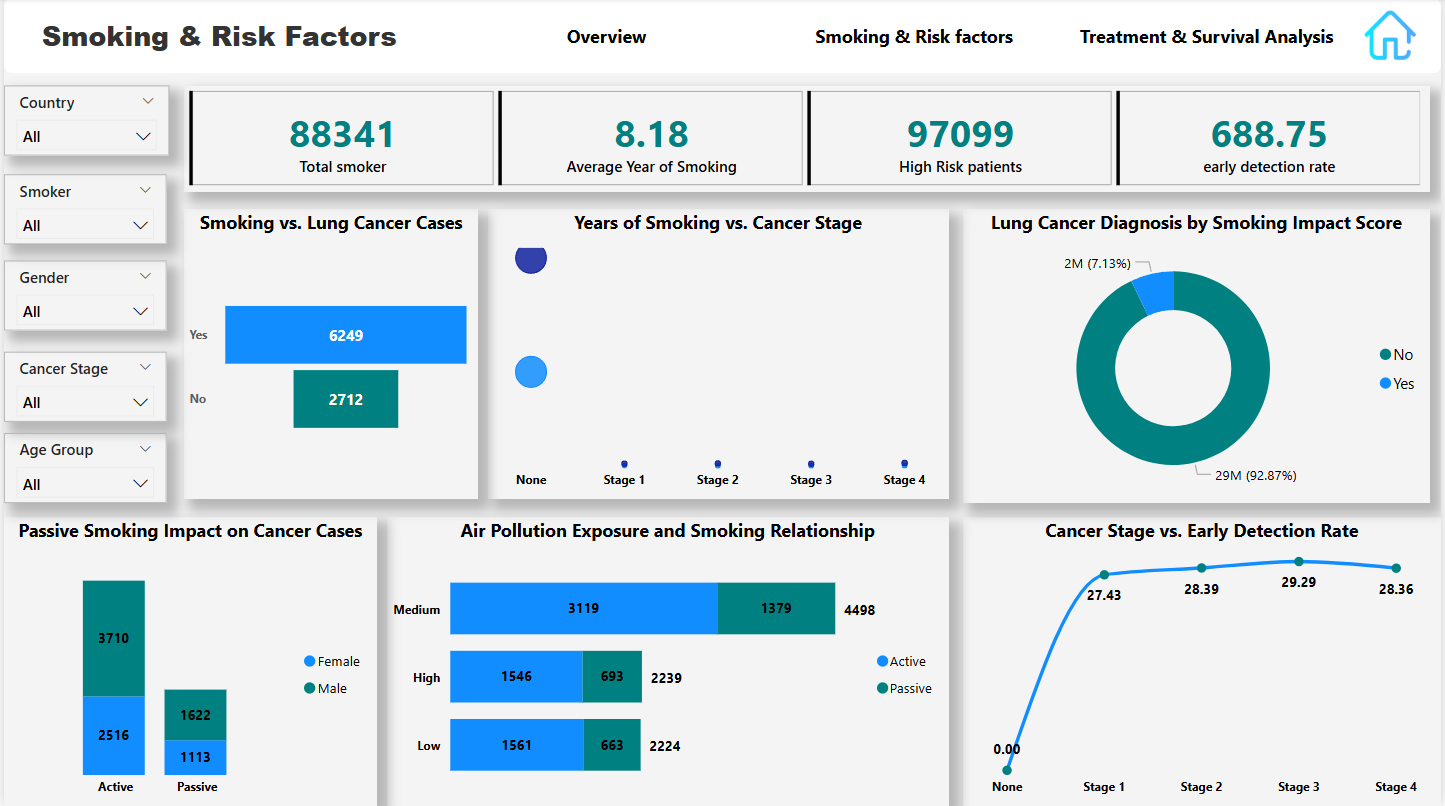

This screenshot's page, from the dashboard's own definition file:
{"tool":"powerbi","page":{"name":"Smoking & Risk factors","canvas":[1280,720],"ordinal":2},"visuals":[{"type":"cardVisual","fields":{"Data":["_Measures.Total smoker","_Measures.Average Year of Smoking","_Measures.High Risk patients","_Measures.early detection rate"]},"box":[160.5,78.4,1109.9,94.1],"z":0},{"type":"shape","box":[0,0,1280,67.6],"z":1000},{"type":"textbox","box":[8.4,10.9,365.6,44.6],"z":2000},{"type":"slicer","fields":{"Values":["lung_cancer_Dataset.Country"]},"box":[0,78.4,147.2,62.7],"z":3000},{"type":"slicer","fields":{"Values":["lung_cancer_Dataset.Smoker"]},"box":[0,156.8,144.8,62.7],"z":4000},{"type":"slicer","fields":{"Values":["lung_cancer_Dataset.Gender"]},"box":[0,234,144.8,62.7],"z":5000},{"type":"slicer","fields":{"Values":["lung_cancer_Dataset.Cancer_Stage"]},"box":[0,314.9,144.8,62.7],"z":6000},{"type":"slicer","fields":{"Values":["lung_cancer_Dataset.Age Group"]},"box":[0,387.3,144.8,62.7],"z":7000},{"type":"actionButton","box":[412.6,10.9,247.3,44.6],"z":8000},{"type":"actionButton","box":[686.5,10.9,247.3,44.6],"z":9000},{"type":"actionButton","box":[947.1,10.9,247.3,44.6],"z":10000},{"type":"funnel","title":"Smoking vs. Lung Cancer Cases","fields":{"Category":["lung_cancer_Dataset.Smoker"],"Y":["_Measures.Total Lung Cancer cases"]},"box":[160.5,188.2,261.8,258.2],"z":11000},{"type":"columnChart","title":"Passive Smoking Impact on Cancer Cases","fields":{"Y":["_Measures.Total Lung Cancer cases"],"Category":["lung_cancer_Dataset.Passive-Smoker"],"Series":["lung_cancer_Dataset.Gender"]},"box":[0,462.1,331.8,258.2],"z":12000},{"type":"scatterChart","title":"Years of Smoking vs. Cancer Stage ","fields":{"X":["lung_cancer_Dataset.Cancer_Stage"],"Y":["Sum(lung_cancer_Dataset.Years_of_Smoking)"],"Size":["_Measures.Total patients"],"Series":["lung_cancer_Dataset.Gender"]},"box":[430.7,188.2,410.2,258.2],"z":13000},{"type":"donutChart","title":"Lung Cancer Diagnosis by Smoking Impact Score","fields":{"Category":["lung_cancer_Dataset.Lung_Cancer_Diagnosis"],"Y":["Sum(lung_cancer_Dataset.Smoking Impact Score)"]},"box":[854.2,188.2,416.2,261.8],"z":14000},{"type":"barChart","title":"Air Pollution Exposure and Smoking Relationship","fields":{"Category":["lung_cancer_Dataset.Air_Pollution_Exposure"],"Series":["lung_cancer_Dataset.Passive-Smoker"],"Y":["_Measures.Total Lung Cancer cases"]},"box":[340.2,462.1,500.7,258.2],"z":15000},{"type":"lineChart","title":"Cancer Stage vs. Early Detection  Rate","fields":{"Y":["_Measures.early detection rate"],"Category":["lung_cancer_Dataset.Cancer_Stage"]},"box":[854.2,462.1,425.9,258.2],"z":16000},{"type":"image","box":[1199.2,6,71.2,55.5],"z":17000}]}

Visuals, with their boxes in screenshot pixels (x1, y1, x2, y2), scaled from the page's 1280x720 canvas onto the 1445x806 screenshot:
cardVisual - _Measures.Total smoker x _Measures.Average Year of Smoking: [181, 88, 1434, 193]
shape: [0, 0, 1444, 76]
textbox: [9, 12, 422, 62]
slicer - lung_cancer_Dataset.Country: [0, 88, 166, 158]
slicer - lung_cancer_Dataset.Smoker: [0, 176, 163, 246]
slicer - lung_cancer_Dataset.Gender: [0, 262, 163, 332]
slicer - lung_cancer_Dataset.Cancer_Stage: [0, 353, 163, 423]
slicer - lung_cancer_Dataset.Age Group: [0, 434, 163, 504]
actionButton: [466, 12, 745, 62]
actionButton: [775, 12, 1054, 62]
actionButton: [1069, 12, 1348, 62]
"Smoking vs. Lung Cancer Cases" funnel: [181, 211, 477, 500]
"Passive Smoking Impact on Cancer Cases" columnChart: [0, 517, 375, 805]
"Years of Smoking vs. Cancer Stage " scatterChart: [486, 211, 949, 500]
"Lung Cancer Diagnosis by Smoking Impact Score" donutChart: [964, 211, 1434, 504]
"Air Pollution Exposure and Smoking Relationship" barChart: [384, 517, 949, 805]
"Cancer Stage vs. Early Detection  Rate" lineChart: [964, 517, 1444, 805]
image: [1354, 7, 1434, 69]
